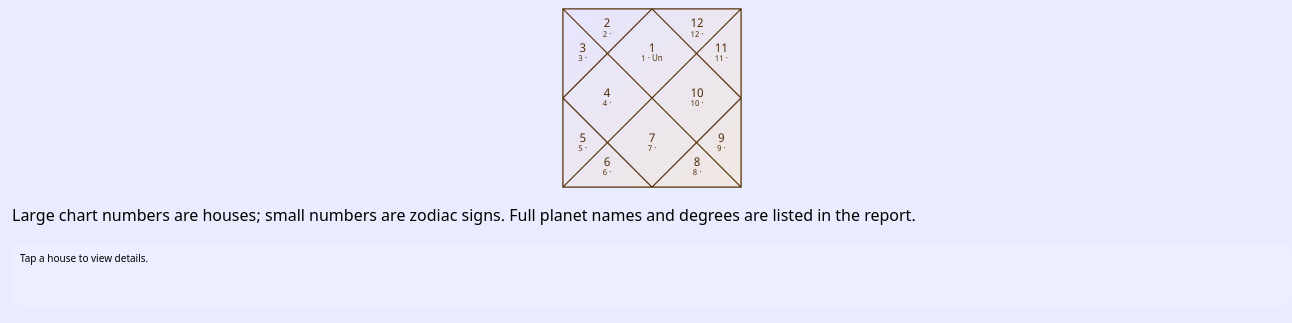
Scenario: explains empty calculated houses in en
Click the button "2 2 ·": (607, 29) [590, 12, 624, 46]
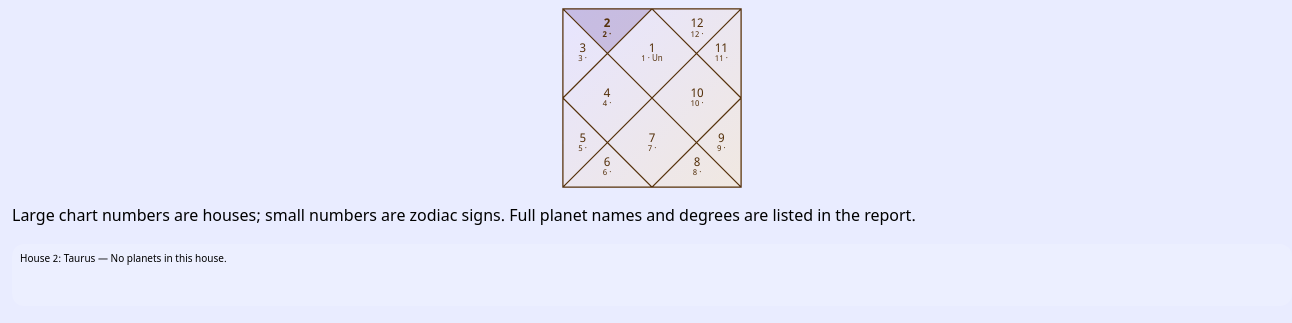
expect the text "House 2: Taurus — No planets in this house." is shown: met, box [12, 244, 1291, 306]
